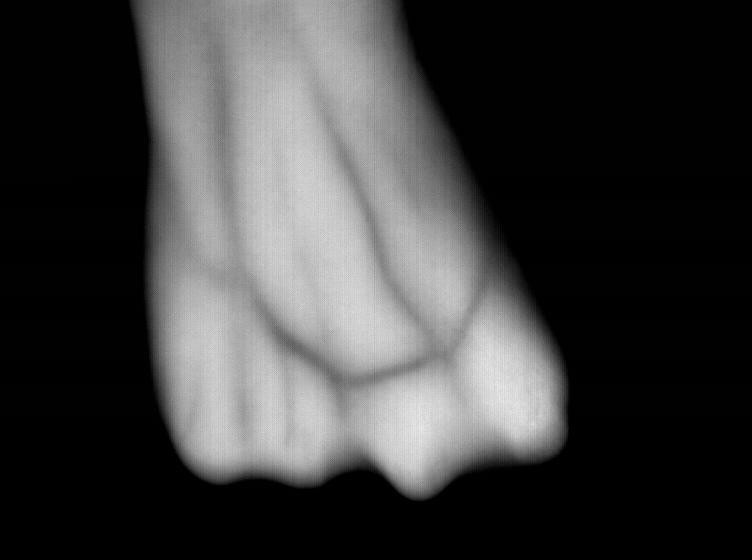Vein: (209, 58, 451, 386)
